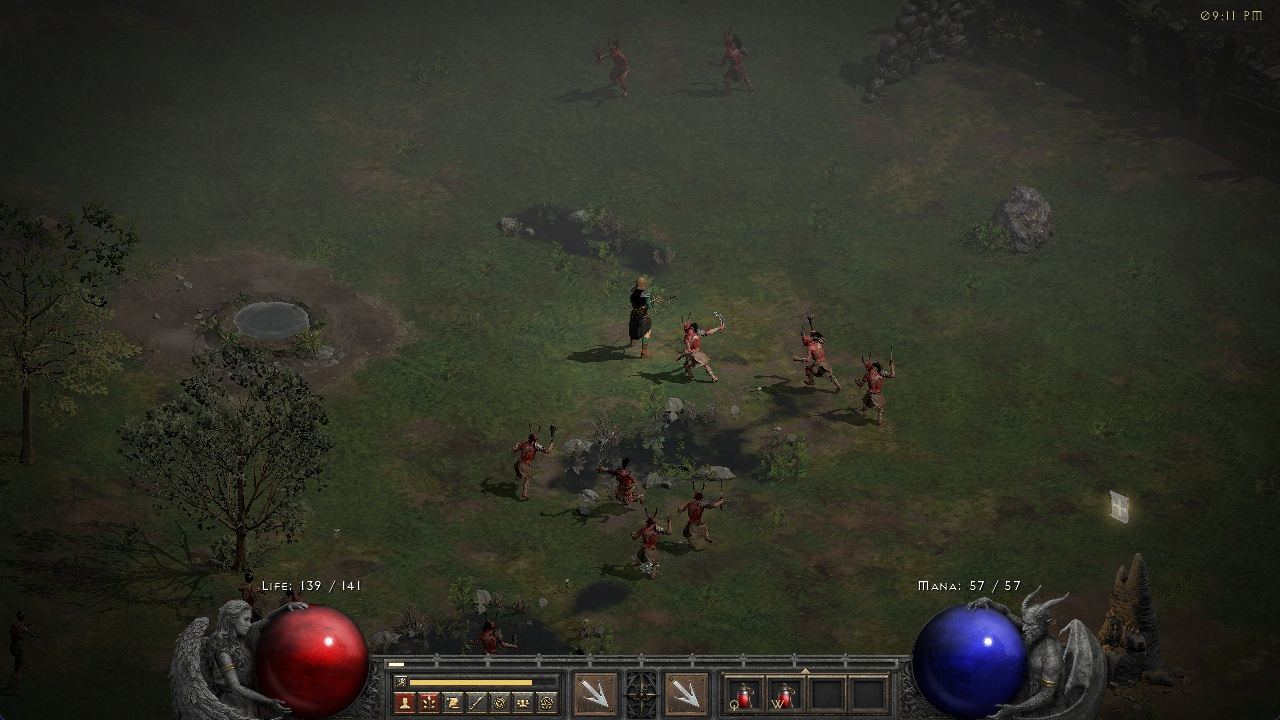fallen: (786, 310, 843, 396), (672, 311, 732, 382), (851, 351, 903, 426), (509, 423, 560, 499), (586, 38, 643, 102), (716, 26, 762, 95), (600, 447, 652, 507), (681, 476, 729, 541), (632, 511, 672, 574), (468, 612, 522, 652)
